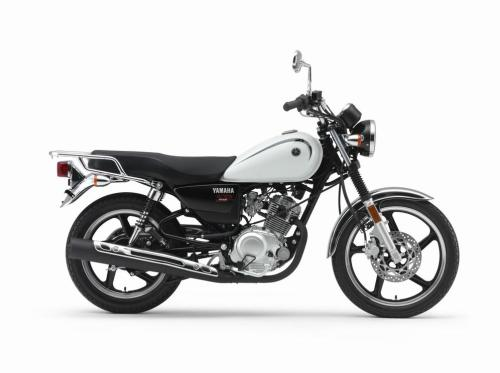motor: (58, 56, 465, 324)
